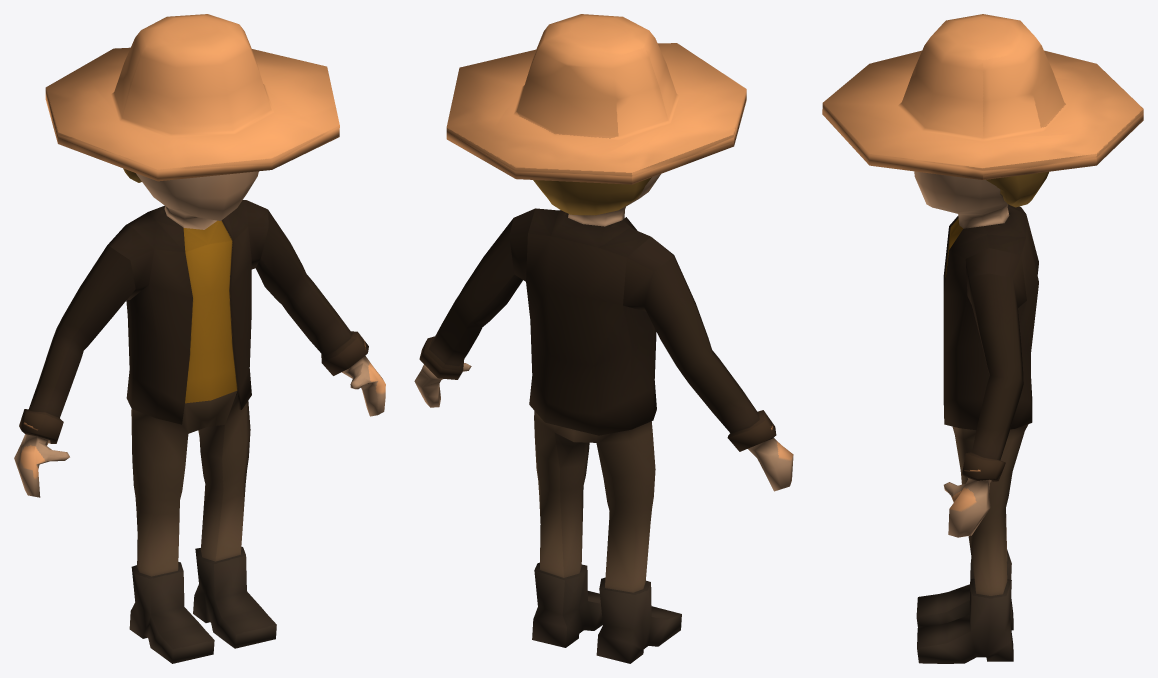
The model's file is justus.obj.
3 views of the same model, side by side, from view 1: azimuth 30°, elevation 25°; view 2: azimuth 150°, elevation 25°; view 3: azimuth 270°, elevation 25° (orthographic).
Visible parts, largest first — view 1: Character_Cube; view 2: Character_Cube; view 3: Character_Cube.
Boxes of the visible parts, left/top/right/bottom form: Character_Cube: left=14, top=14, right=385, bottom=663; Character_Cube: left=414, top=14, right=793, bottom=663; Character_Cube: left=822, top=14, right=1143, bottom=663.
Bounding box in the file's own units: 1.17 × 1.84 × 0.8816.
